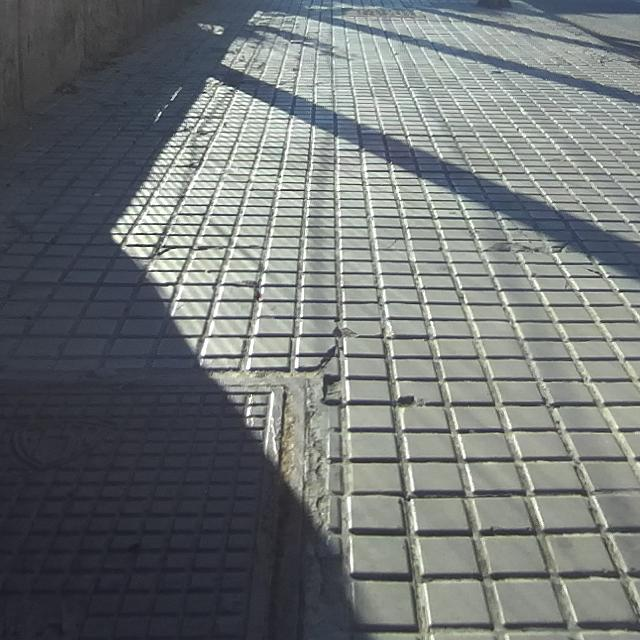calcada_quebrada: (317, 317, 357, 367), (146, 243, 223, 261)
